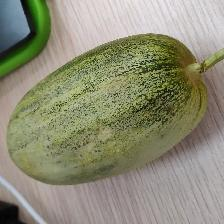gua: (53, 78, 186, 167)
